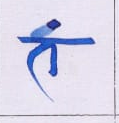e_matra: (27, 18, 61, 36)
